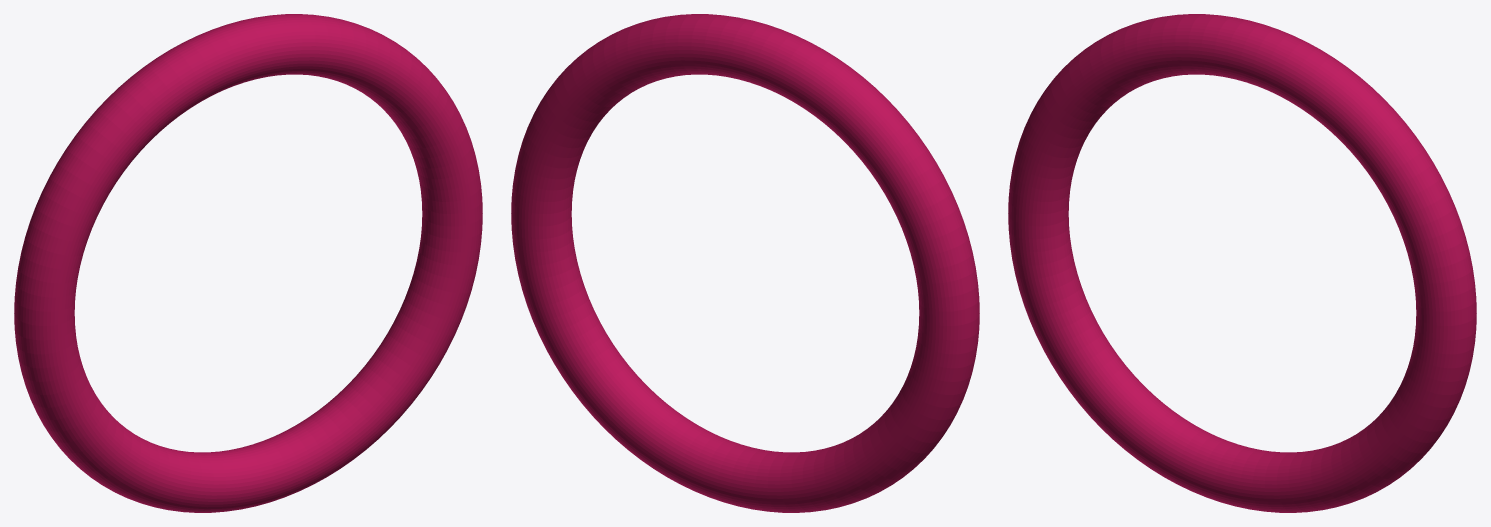
3 views of the same model, side by side, from view 1: azimuth 30°, elevation 25°; view 2: azimuth 150°, elevation 25°; view 3: azimuth 330°, elevation 25° (orthographic).
Visible parts, largest first — view 1: world; view 2: world; view 3: world.
Boxes of the visible parts, x1,y1,x2,y2 form: world: [14, 14, 482, 512]; world: [511, 14, 979, 512]; world: [1008, 14, 1476, 512].
Size of the model in its own units: 31.6 by 31.6 by 3.59.
